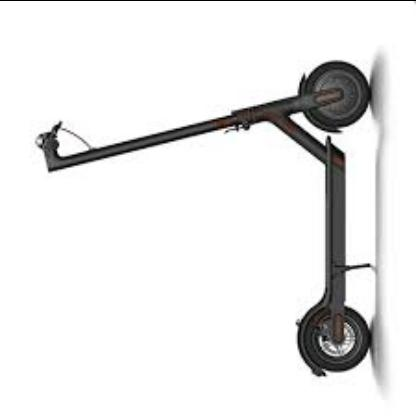bike: (37, 60, 379, 382)
